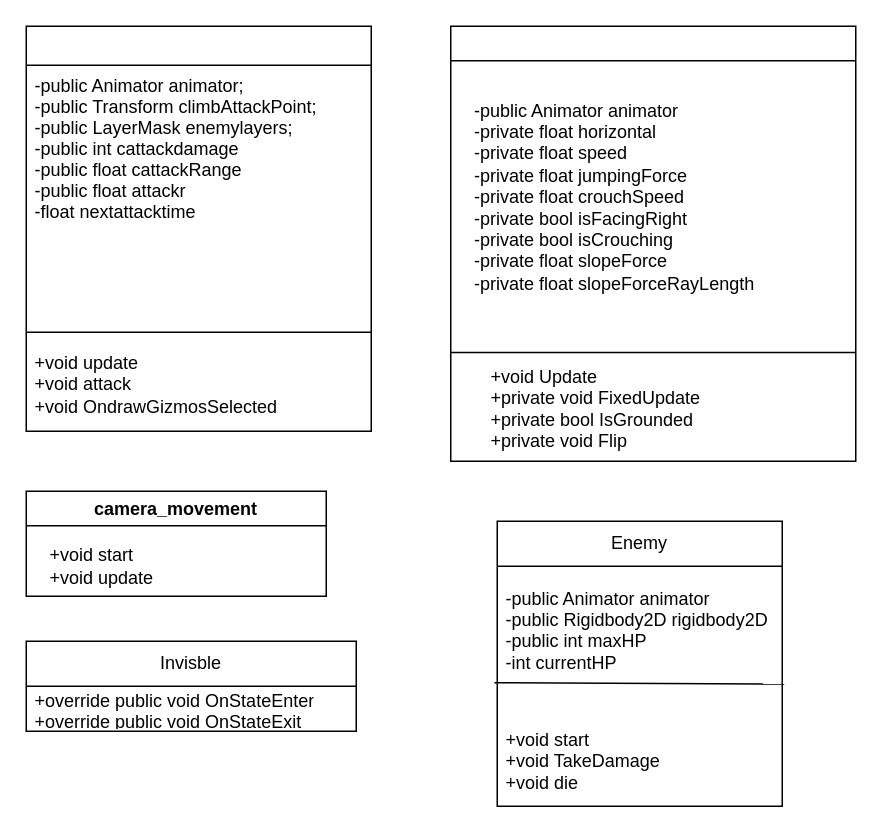
Image size: 884x833. Some labels were removed from this diagram. Each missing label, with the box of its shape:
player_movement: (449, 25, 856, 461)
playerCombat: (25, 25, 371, 431)
